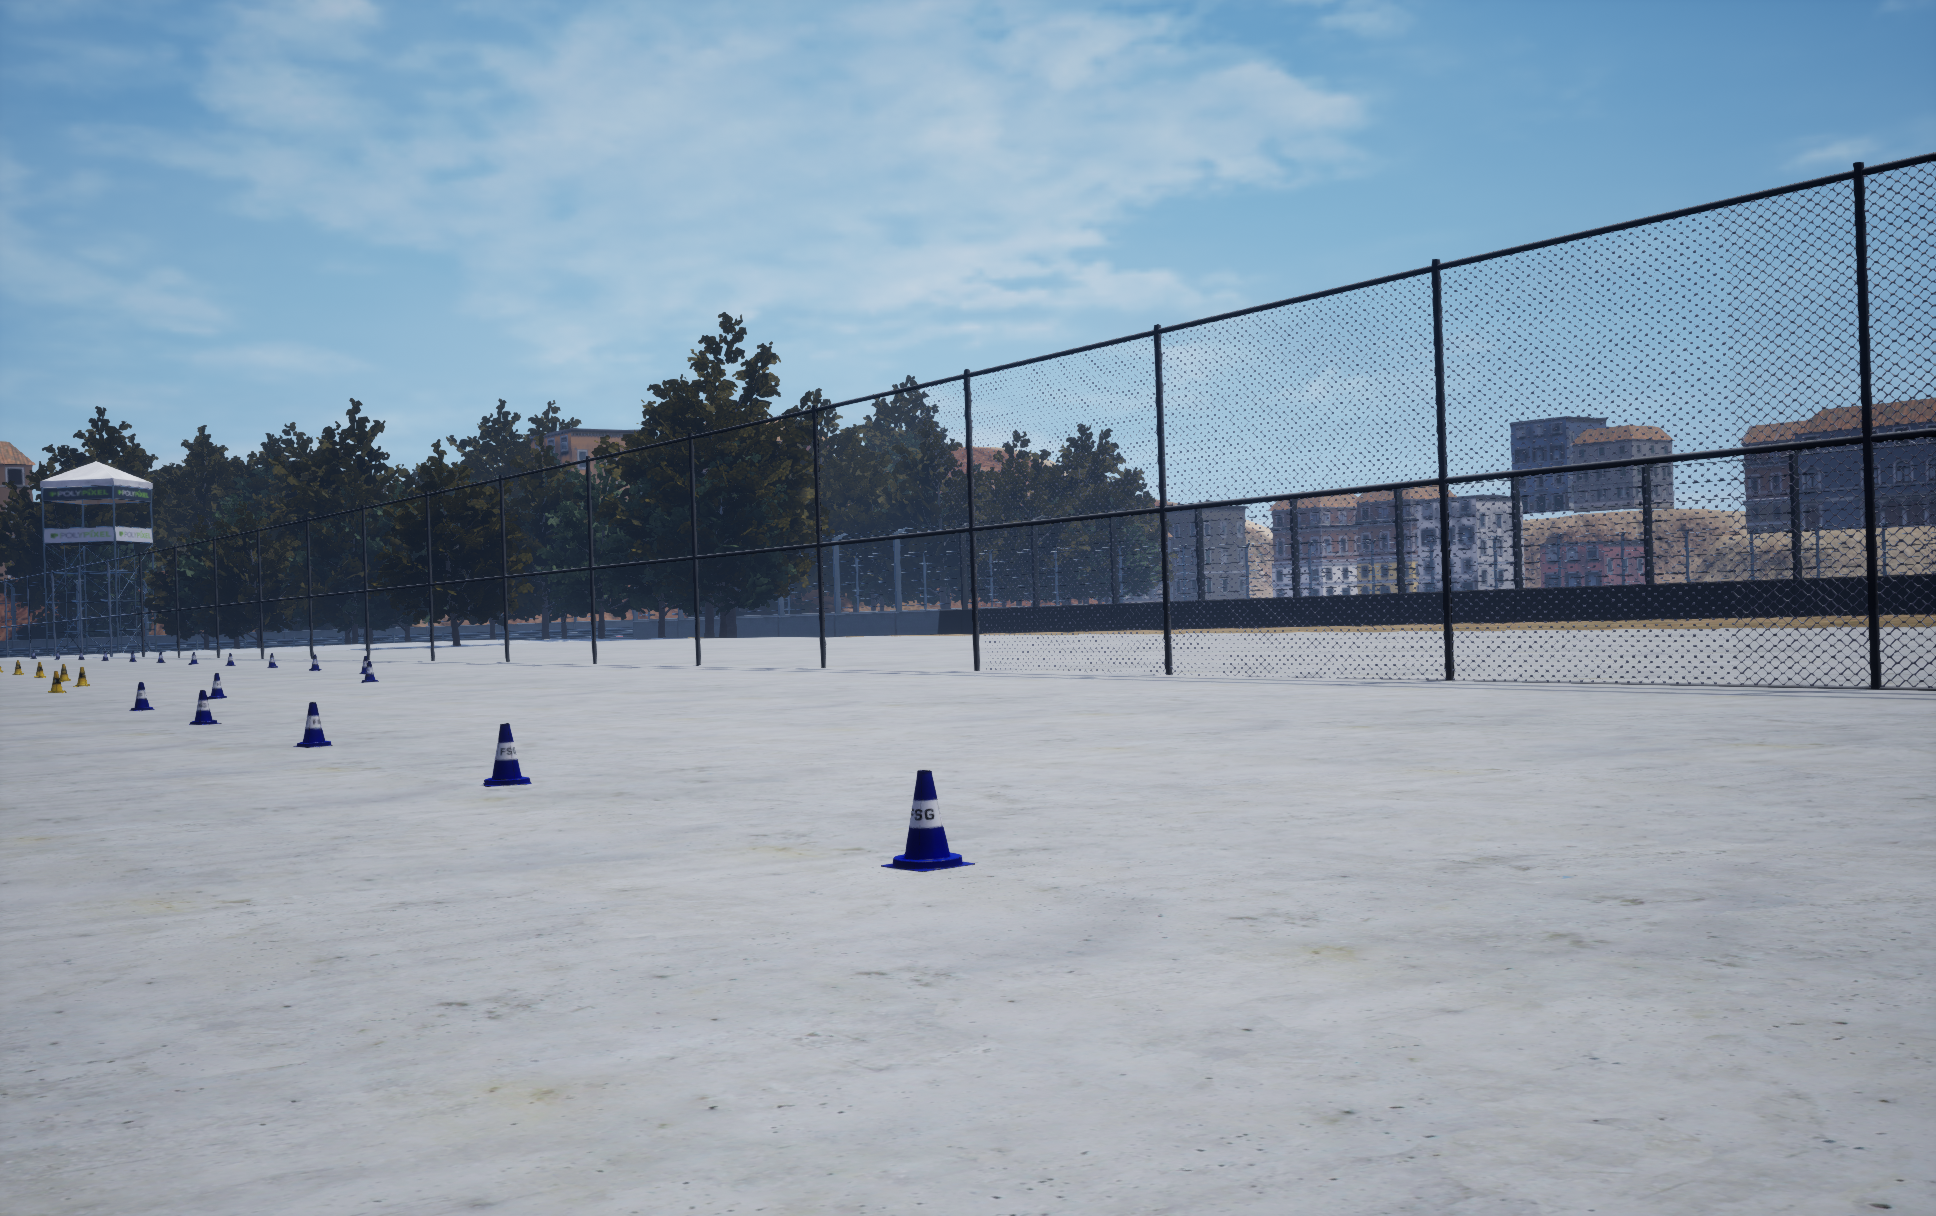blue: (48, 671, 66, 692), (73, 667, 90, 686)
yellow: (881, 771, 974, 871), (483, 723, 531, 786), (293, 702, 332, 747), (189, 691, 221, 724), (129, 682, 154, 710), (207, 672, 226, 698), (361, 661, 378, 682)
